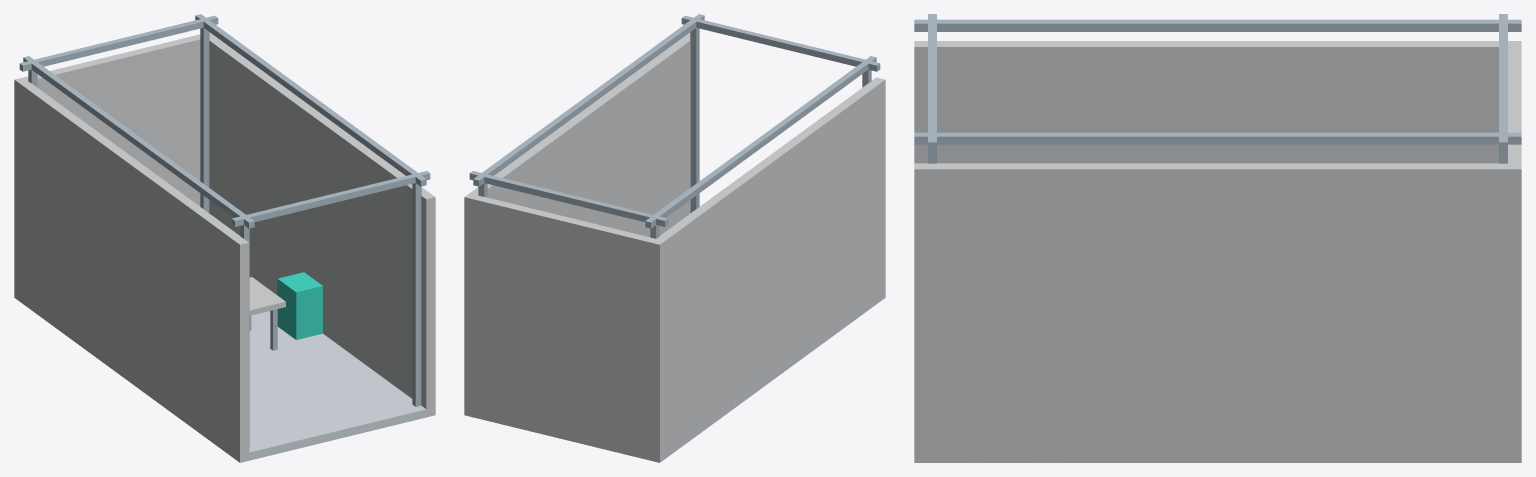
3 views of the same model, side by side, from view 1: azimuth 30°, elevation 25°; view 2: azimuth 150°, elevation 25°; view 3: azimuth 270°, elevation 25° (orthographic). The views are drawn at different scales.
Visible parts, largest first — view 1: Exhibition Booth Concept; view 2: Exhibition Booth Concept; view 3: Exhibition Booth Concept.
Part boxes in pixels (x1,y1,x2,y2): Exhibition Booth Concept: (14,14,435,462); Exhibition Booth Concept: (464,14,885,462); Exhibition Booth Concept: (914,14,1521,462).
Size of the model in its own units: 3 by 3.49 by 6.
